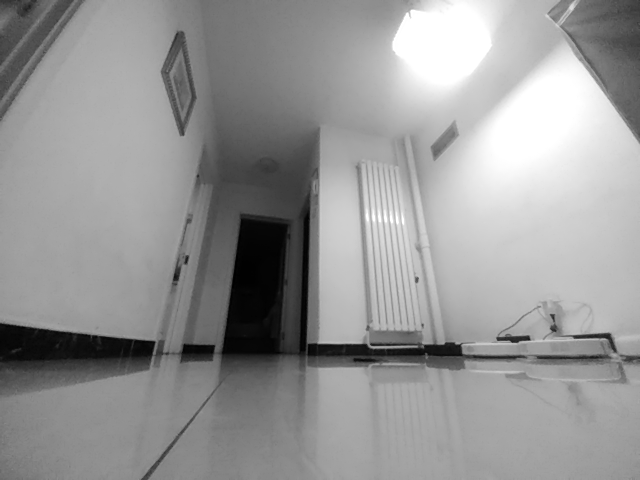others: (352, 357, 386, 363)
